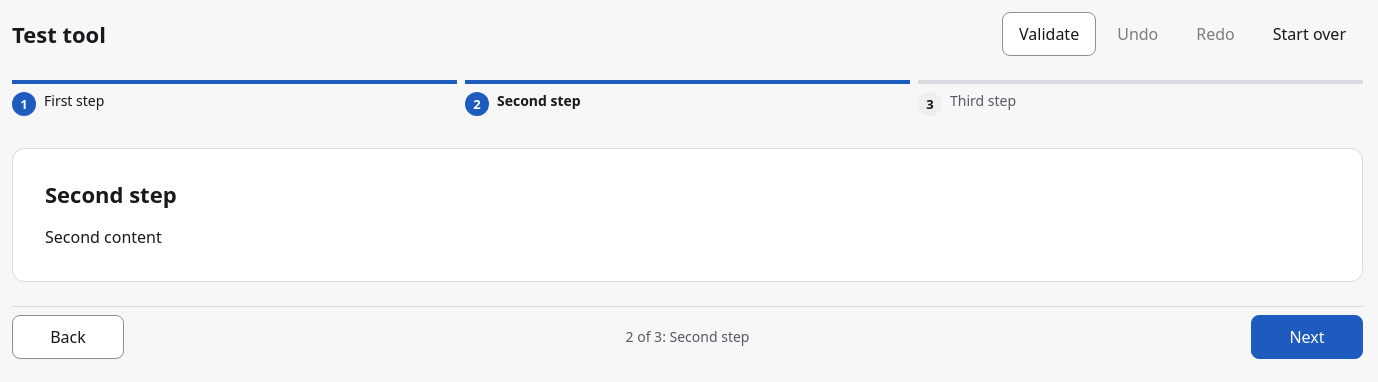
Test: Wizard › start over clears everything after confirmation
The image size is (1378, 382).
Click the button "Start over" at point(1309, 34), box [1256,12,1363,56]
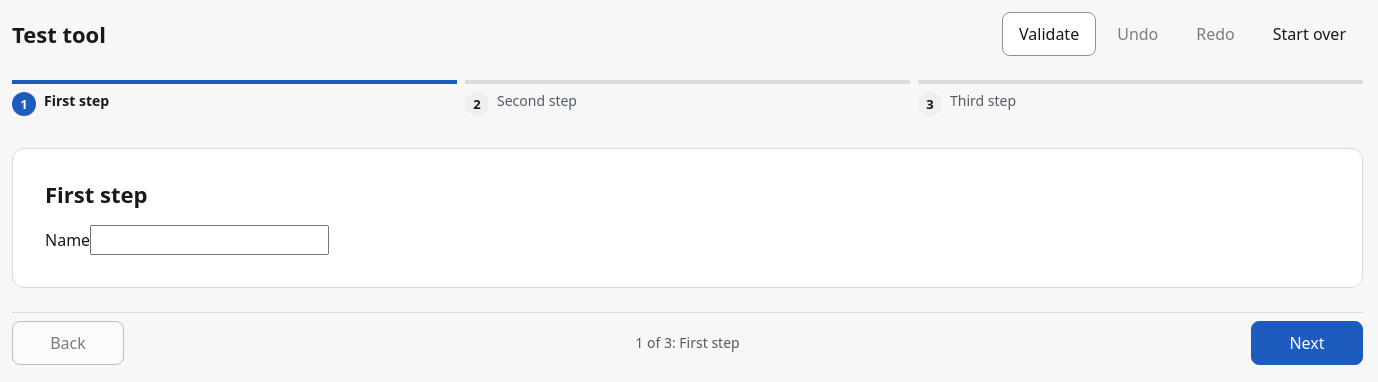
Now the heading reads "First step", box [45,179,147,209]
